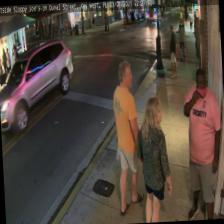person: (179, 66, 224, 220), (110, 60, 144, 215), (133, 96, 172, 222)
